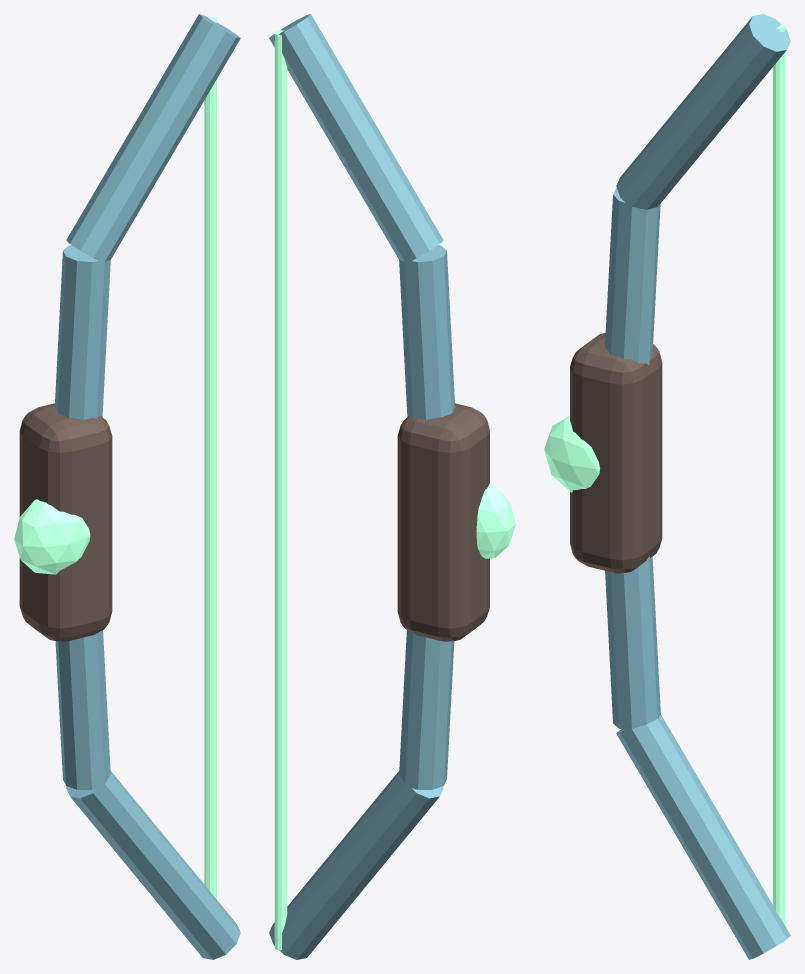
Rendered from windstring.glb.
The picture shows the model from 3 angles, left to right: view 1: azimuth 30°, elevation 25°; view 2: azimuth 150°, elevation 25°; view 3: azimuth 330°, elevation 25°; orthographic projection.
Parts seen in each view (by area): view 1: BowGrip, BowLimb_3, BowString, BowLimb_0, BowLimb_2, BowLimb_1, BowGem; view 2: BowGrip, BowLimb_3, BowString, BowLimb_0, BowLimb_2, BowLimb_1, BowGem; view 3: BowGrip, BowLimb_0, BowString, BowLimb_3, BowLimb_1, BowLimb_2, BowGem.
Boxes of the visible parts, x1,y1,x2,y2 form: BowGrip: [19, 403, 112, 641]; BowLimb_3: [66, 14, 240, 263]; BowString: [204, 17, 216, 899]; BowLimb_0: [66, 771, 240, 959]; BowLimb_2: [54, 245, 110, 419]; BowLimb_1: [55, 630, 110, 789]; BowGem: [14, 499, 90, 574]; BowGrip: [397, 403, 489, 641]; BowLimb_3: [269, 14, 443, 262]; BowString: [274, 30, 287, 950]; BowLimb_0: [269, 771, 443, 959]; BowLimb_2: [399, 245, 454, 419]; BowLimb_1: [399, 630, 454, 789]; BowGem: [476, 483, 515, 558]; BowGrip: [570, 333, 662, 573]; BowLimb_0: [616, 714, 790, 959]; BowString: [772, 24, 785, 943]; BowLimb_3: [616, 14, 790, 209]; BowLimb_1: [605, 556, 660, 730]; BowLimb_2: [605, 188, 660, 365]; BowGem: [544, 415, 600, 492].
Bounding box in the file's own units: 0.6534 × 2.57 × 0.22.
